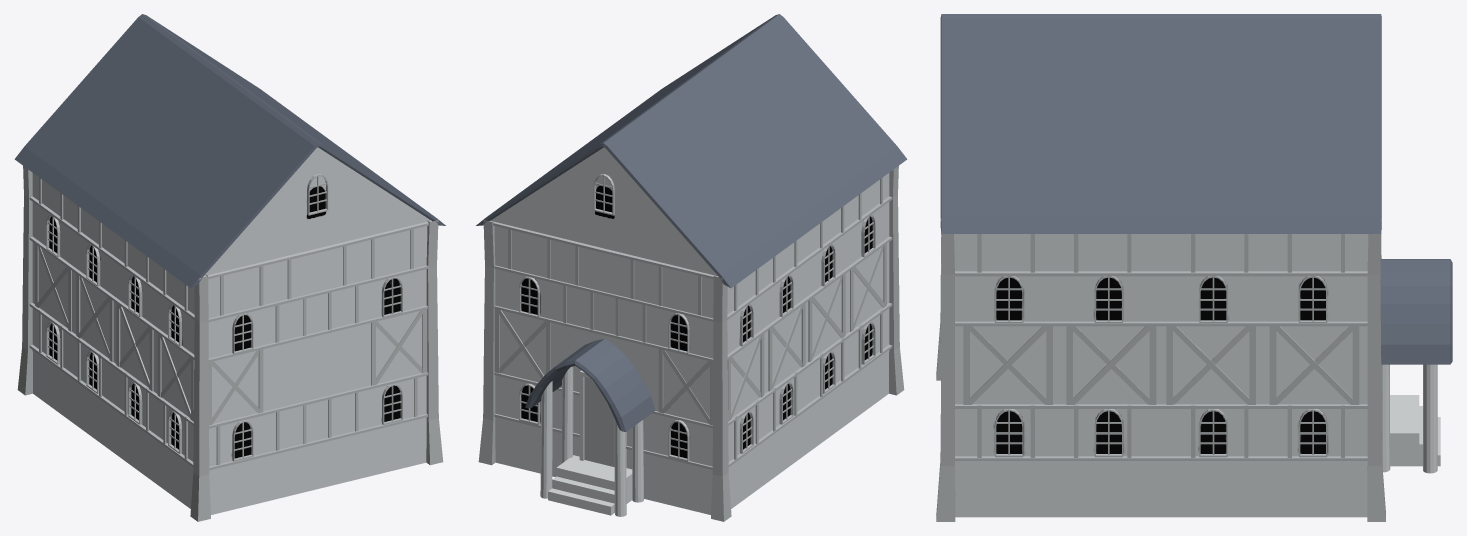
Rendered from House1.fbx.
3 views of the same model, side by side, from view 1: azimuth 30°, elevation 25°; view 2: azimuth 150°, elevation 25°; view 3: azimuth 270°, elevation 25° (orthographic). The views are drawn at different scales.
Parts seen in each view (by area): view 1: House1; view 2: House1; view 3: House1.
Part boxes in pixels (x1,y1,x2,y2): House1: (14, 14, 445, 521); House1: (476, 14, 907, 521); House1: (936, 14, 1452, 521).
Size of the model in its own units: 721 by 937 by 1010.
Materials: 1 (1 with a texture image).
